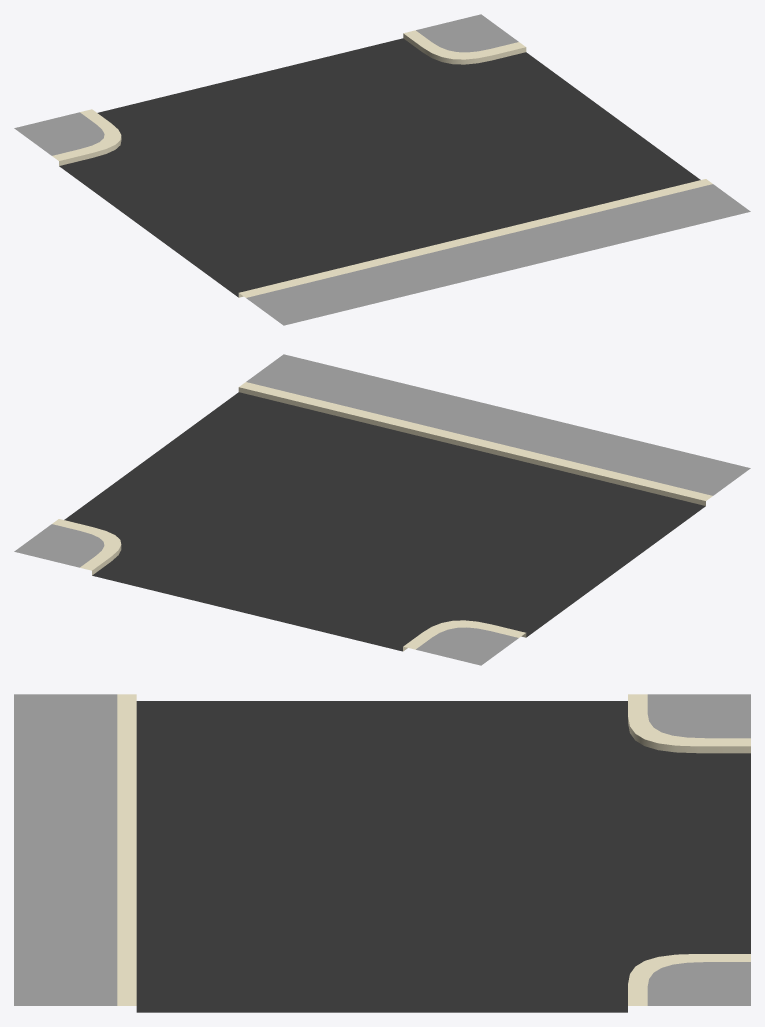
Rendered from Strasse5.glb.
3 renders of one model, top to bottom at view 1: azimuth 30°, elevation 25°; view 2: azimuth 150°, elevation 25°; view 3: azimuth 270°, elevation 25°, orthographic. The views are drawn at different scales.
Parts seen in each view (by area): view 1: Strasse5; view 2: Strasse5; view 3: Strasse5.
Part boxes in pixels (bbox=[...]): Strasse5: bbox=[14, 14, 750, 325]; Strasse5: bbox=[14, 354, 750, 665]; Strasse5: bbox=[14, 694, 750, 1012].
Size of the model in its own units: 6 by 0.061 by 6.
1 material, 1 textured.
